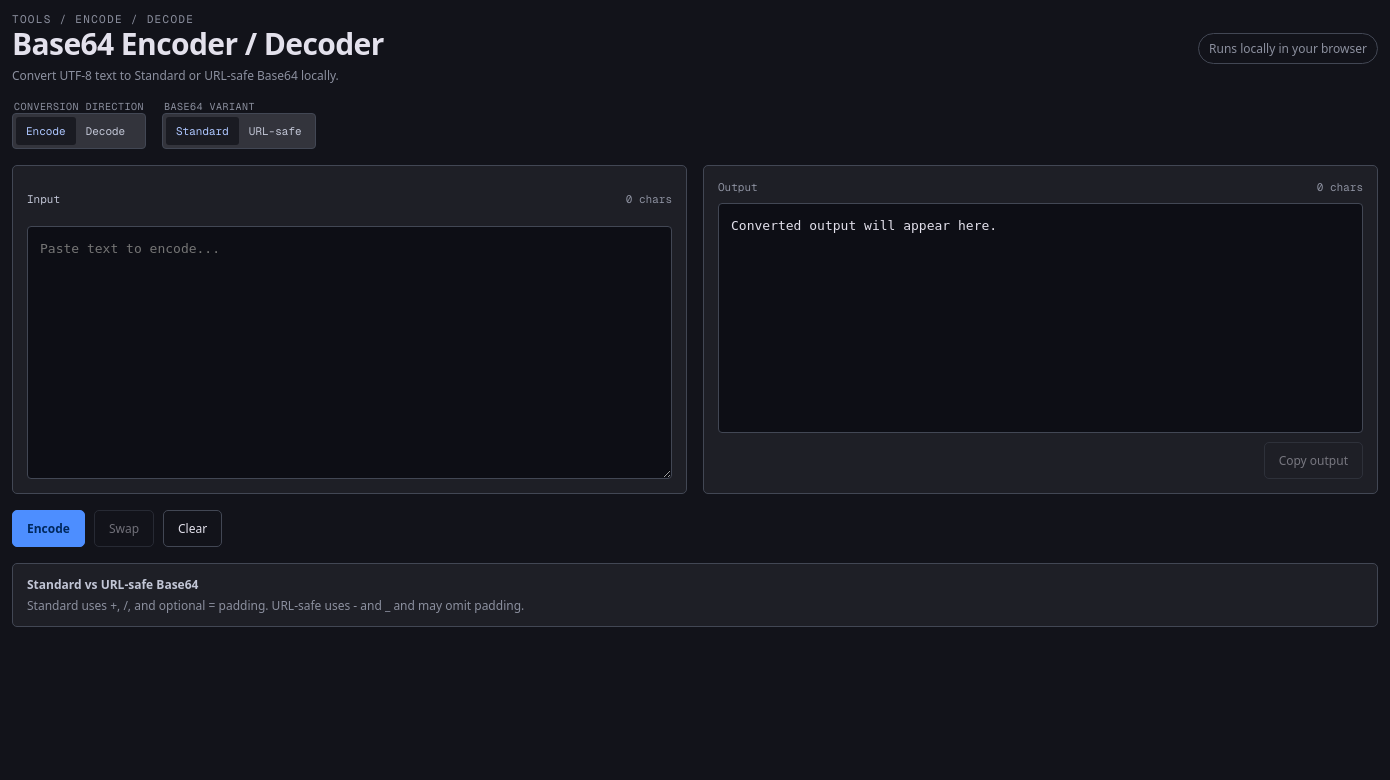
Base64 Encoder / Decoder - Level 2 realistic/intermediate › clears the workspace and copies a successful result
Type "Hello" into the text box labelled "Input" at x=350, y=352, box [27,226,672,479]
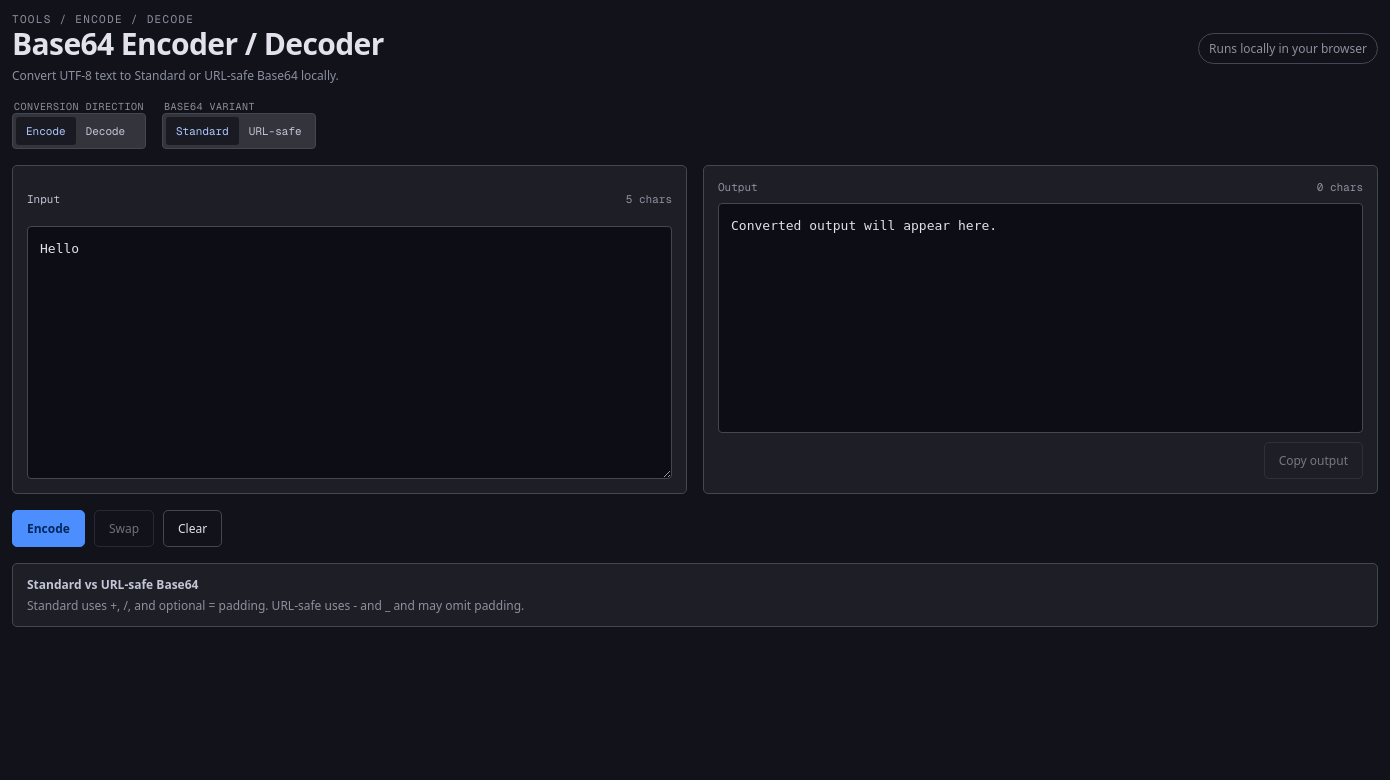
Click the button with aria-label "Encode Base64" at x=48, y=528, box [12,510,85,547]
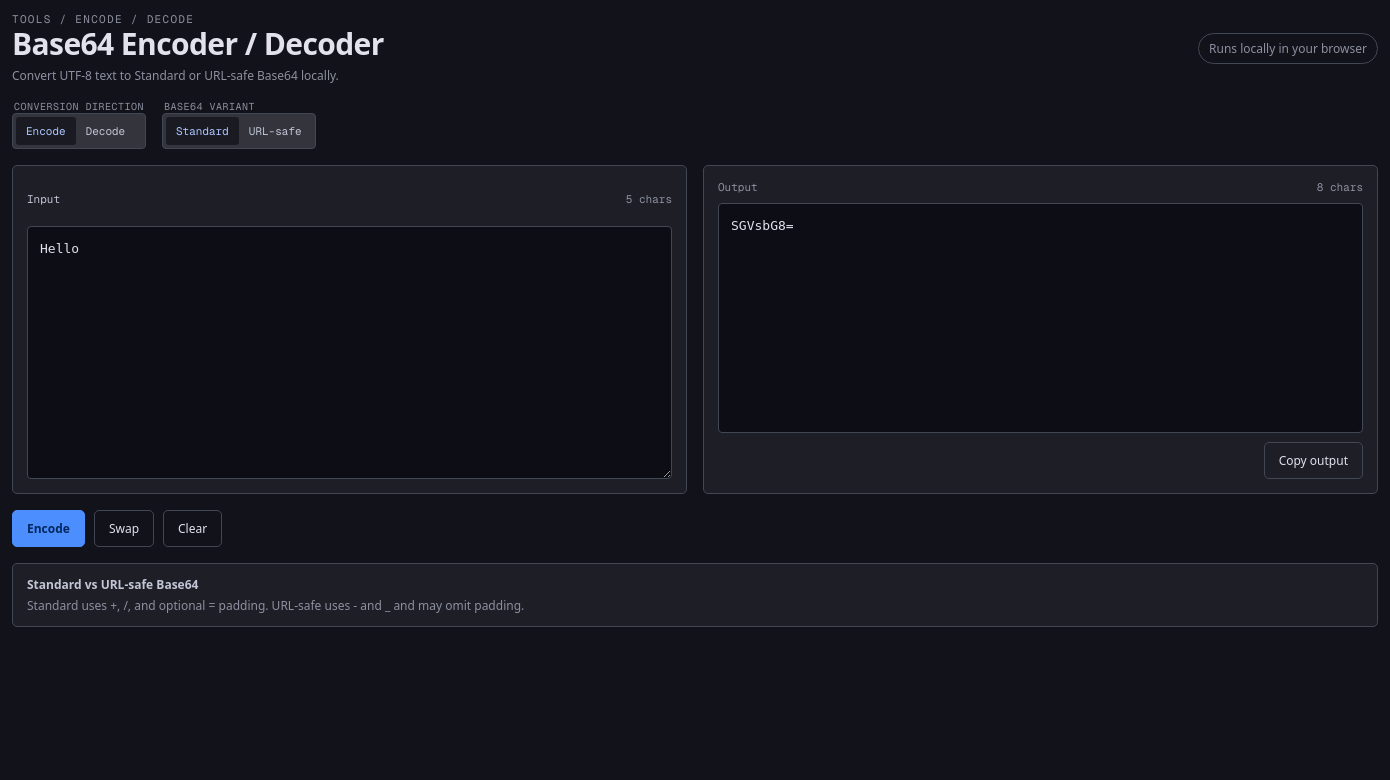
Click the button "Copy output" at x=1313, y=460, box [1264,442,1363,479]
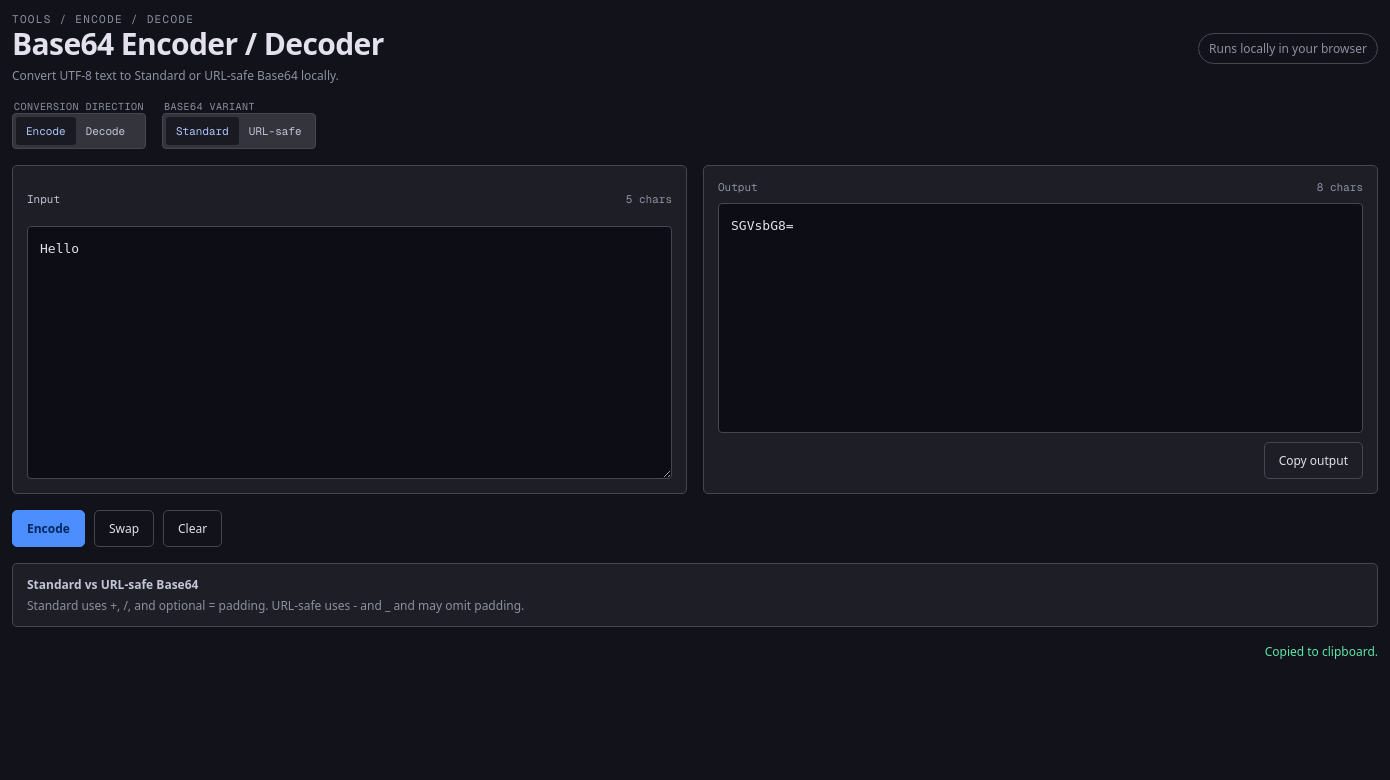
Expected: the message reads "Copied to clipboard.", [1265,643,1378,660]
Click the button "Clear" at x=193, y=528, box [163,510,222,547]
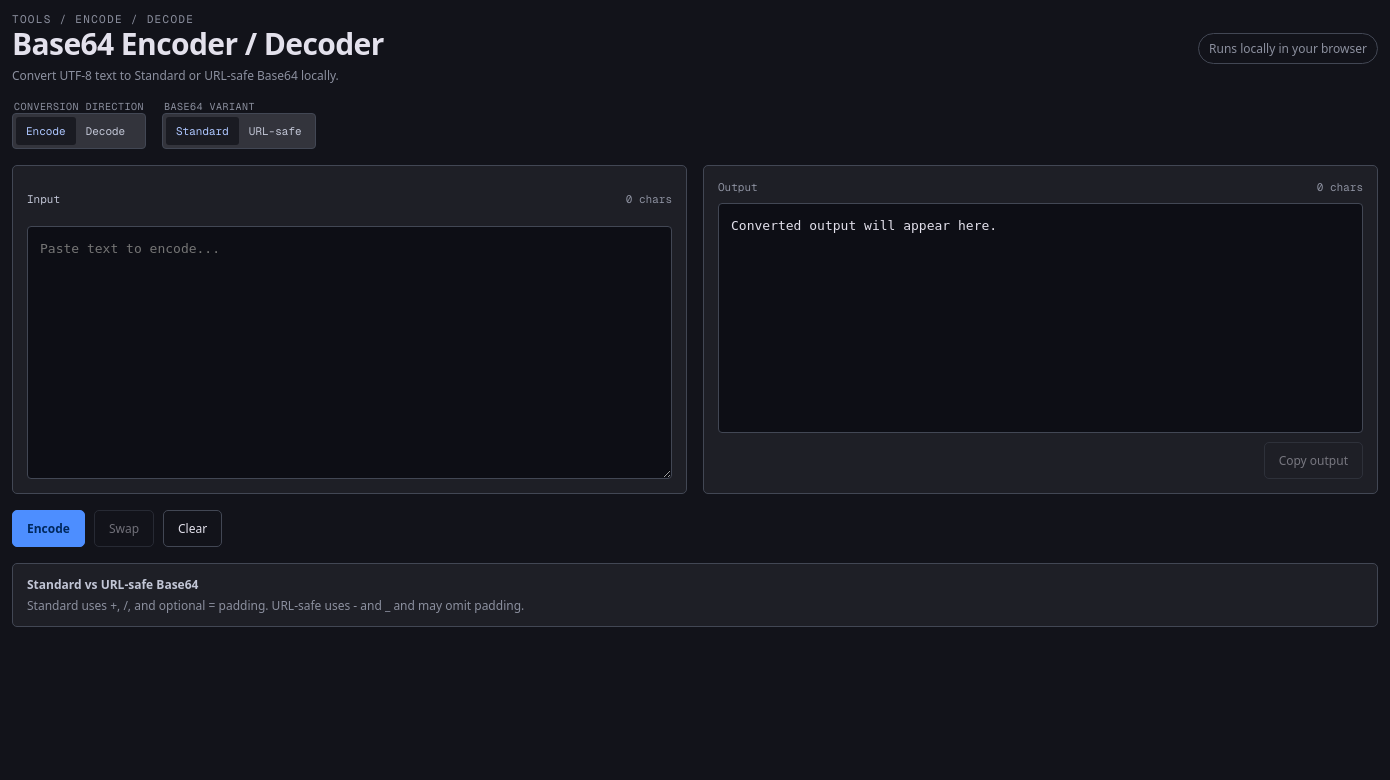
Expected: the text box labelled "Input" is empty, [27,226,672,479]
Expected: the text "Converted output will appear here." is shown, [718,203,1363,433]
